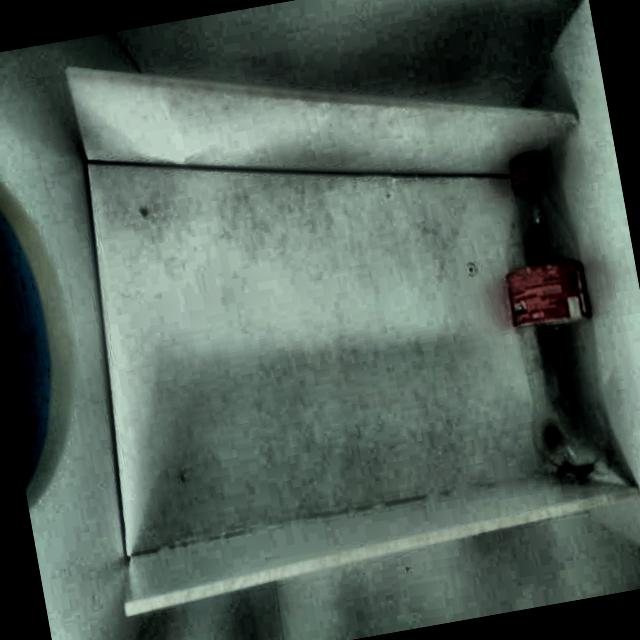plastic bottle: (501, 152, 630, 489)
